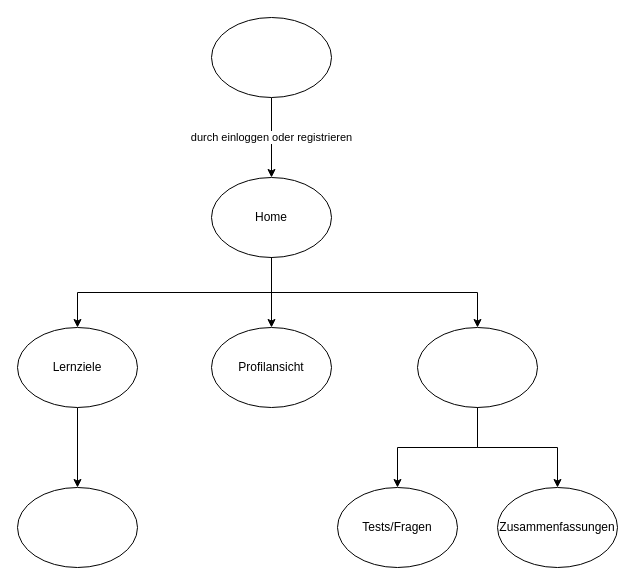
The diagram is 635 pixels wide and 585 high, and some of its shapes have lost their labels. The centre of each missing label's shape, as x and y in pixels:
Lernkategorien: the point at 477,367
Lernplan: the point at 77,527
Startseite: the point at 271,57
